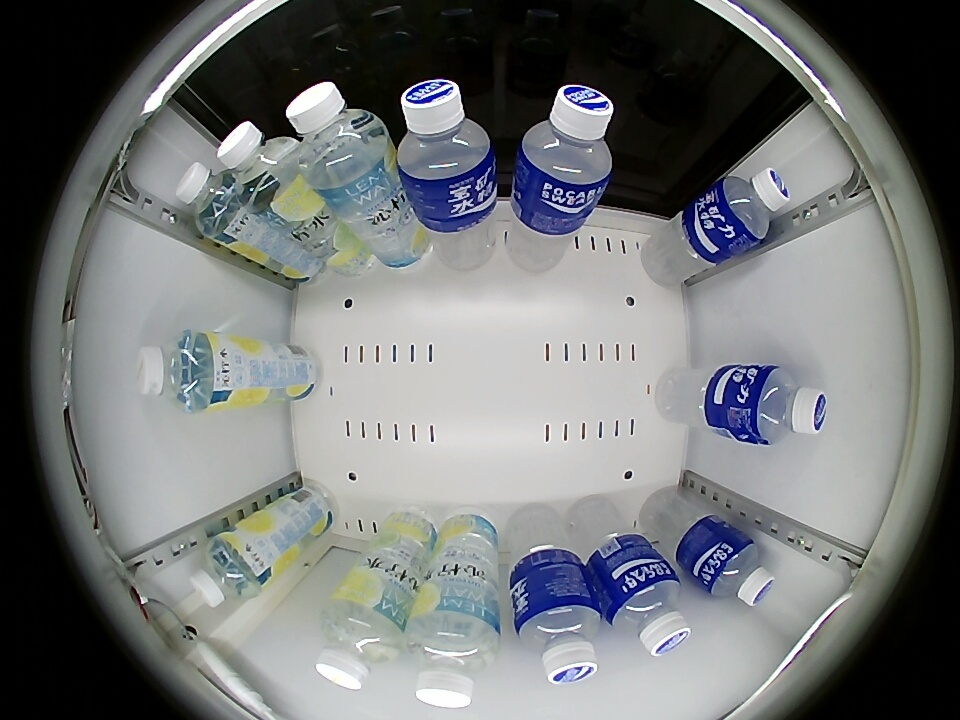baokuangli: (514, 84, 614, 204), (395, 79, 495, 196), (512, 584, 602, 685), (603, 563, 691, 658), (741, 364, 828, 446), (711, 168, 791, 248), (700, 533, 776, 607)
qinningshui: (286, 80, 390, 192), (406, 609, 500, 709), (316, 597, 403, 691), (217, 120, 303, 204), (136, 329, 220, 413), (189, 532, 269, 606), (175, 162, 246, 238)
